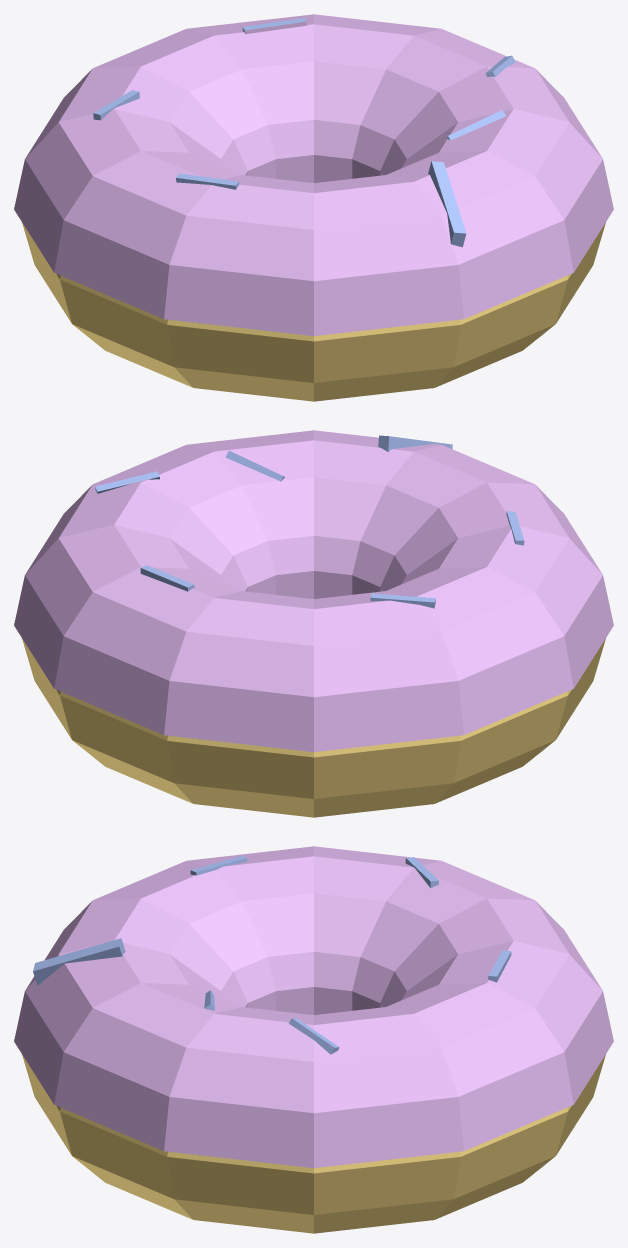
3 views of the same model, one above another, from view 1: azimuth 30°, elevation 25°; view 2: azimuth 150°, elevation 25°; view 3: azimuth 270°, elevation 25° (orthographic).
Parts seen in each view (by area): view 1: Donut; view 2: Donut; view 3: Donut.
Part boxes in pixels (<box>): Donut: <box>14,14,613,401</box>; Donut: <box>14,430,613,817</box>; Donut: <box>14,846,613,1233</box>.
Bounding box in the file's own units: 0.3561 × 0.1419 × 0.3561.
